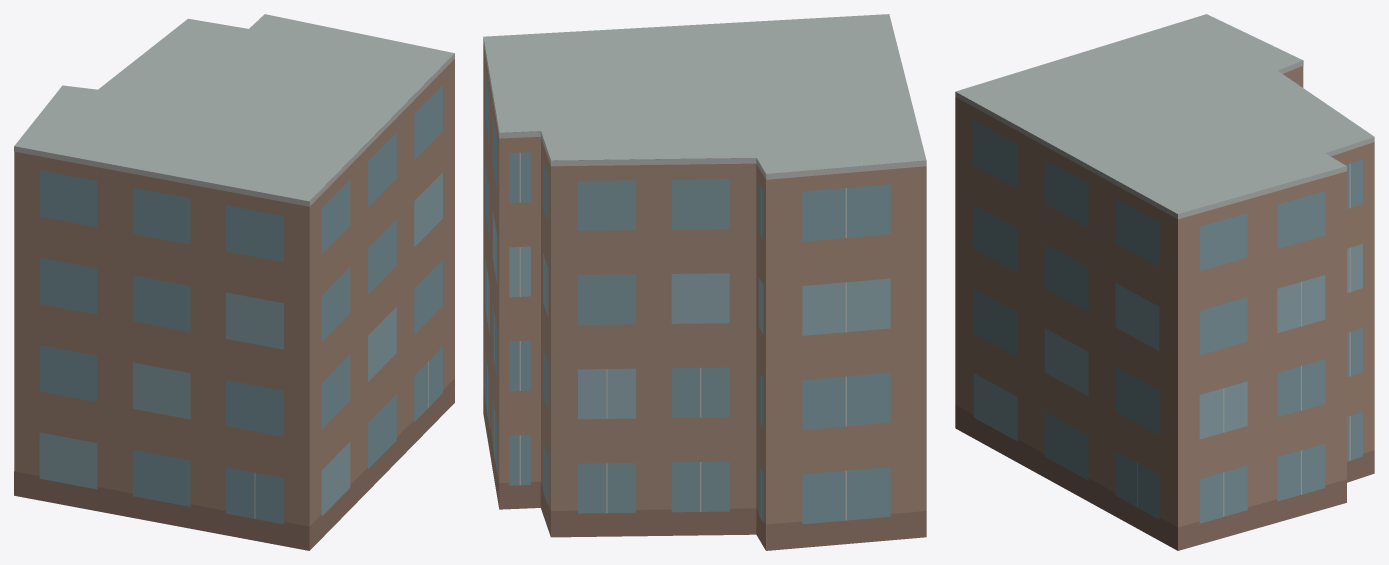
The model's file is survey-upis-32506559.glb.
The picture shows the model from 3 angles, left to right: view 1: azimuth 30°, elevation 25°; view 2: azimuth 150°, elevation 25°; view 3: azimuth 270°, elevation 25°; orthographic projection. The views are drawn at different scales.
Visible parts, largest first — view 1: survey-upis-32506559.tmp; view 2: survey-upis-32506559.tmp; view 3: survey-upis-32506559.tmp.
Boxes of the visible parts, box(x1,y1,x2,y2) form: survey-upis-32506559.tmp: box(14, 14, 454, 550); survey-upis-32506559.tmp: box(483, 14, 926, 550); survey-upis-32506559.tmp: box(955, 14, 1374, 550).
Bounding box in the file's own units: 20.15 × 15.8 × 17.84.
